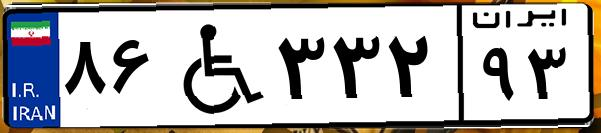2: (385, 28, 445, 110)
3: (270, 28, 330, 110), (330, 28, 385, 110), (525, 38, 570, 115)
6: (110, 28, 158, 98)
8: (57, 26, 110, 100)
9: (475, 38, 525, 113)
ژ (معلولین و جانبازان): (158, 12, 270, 120)
